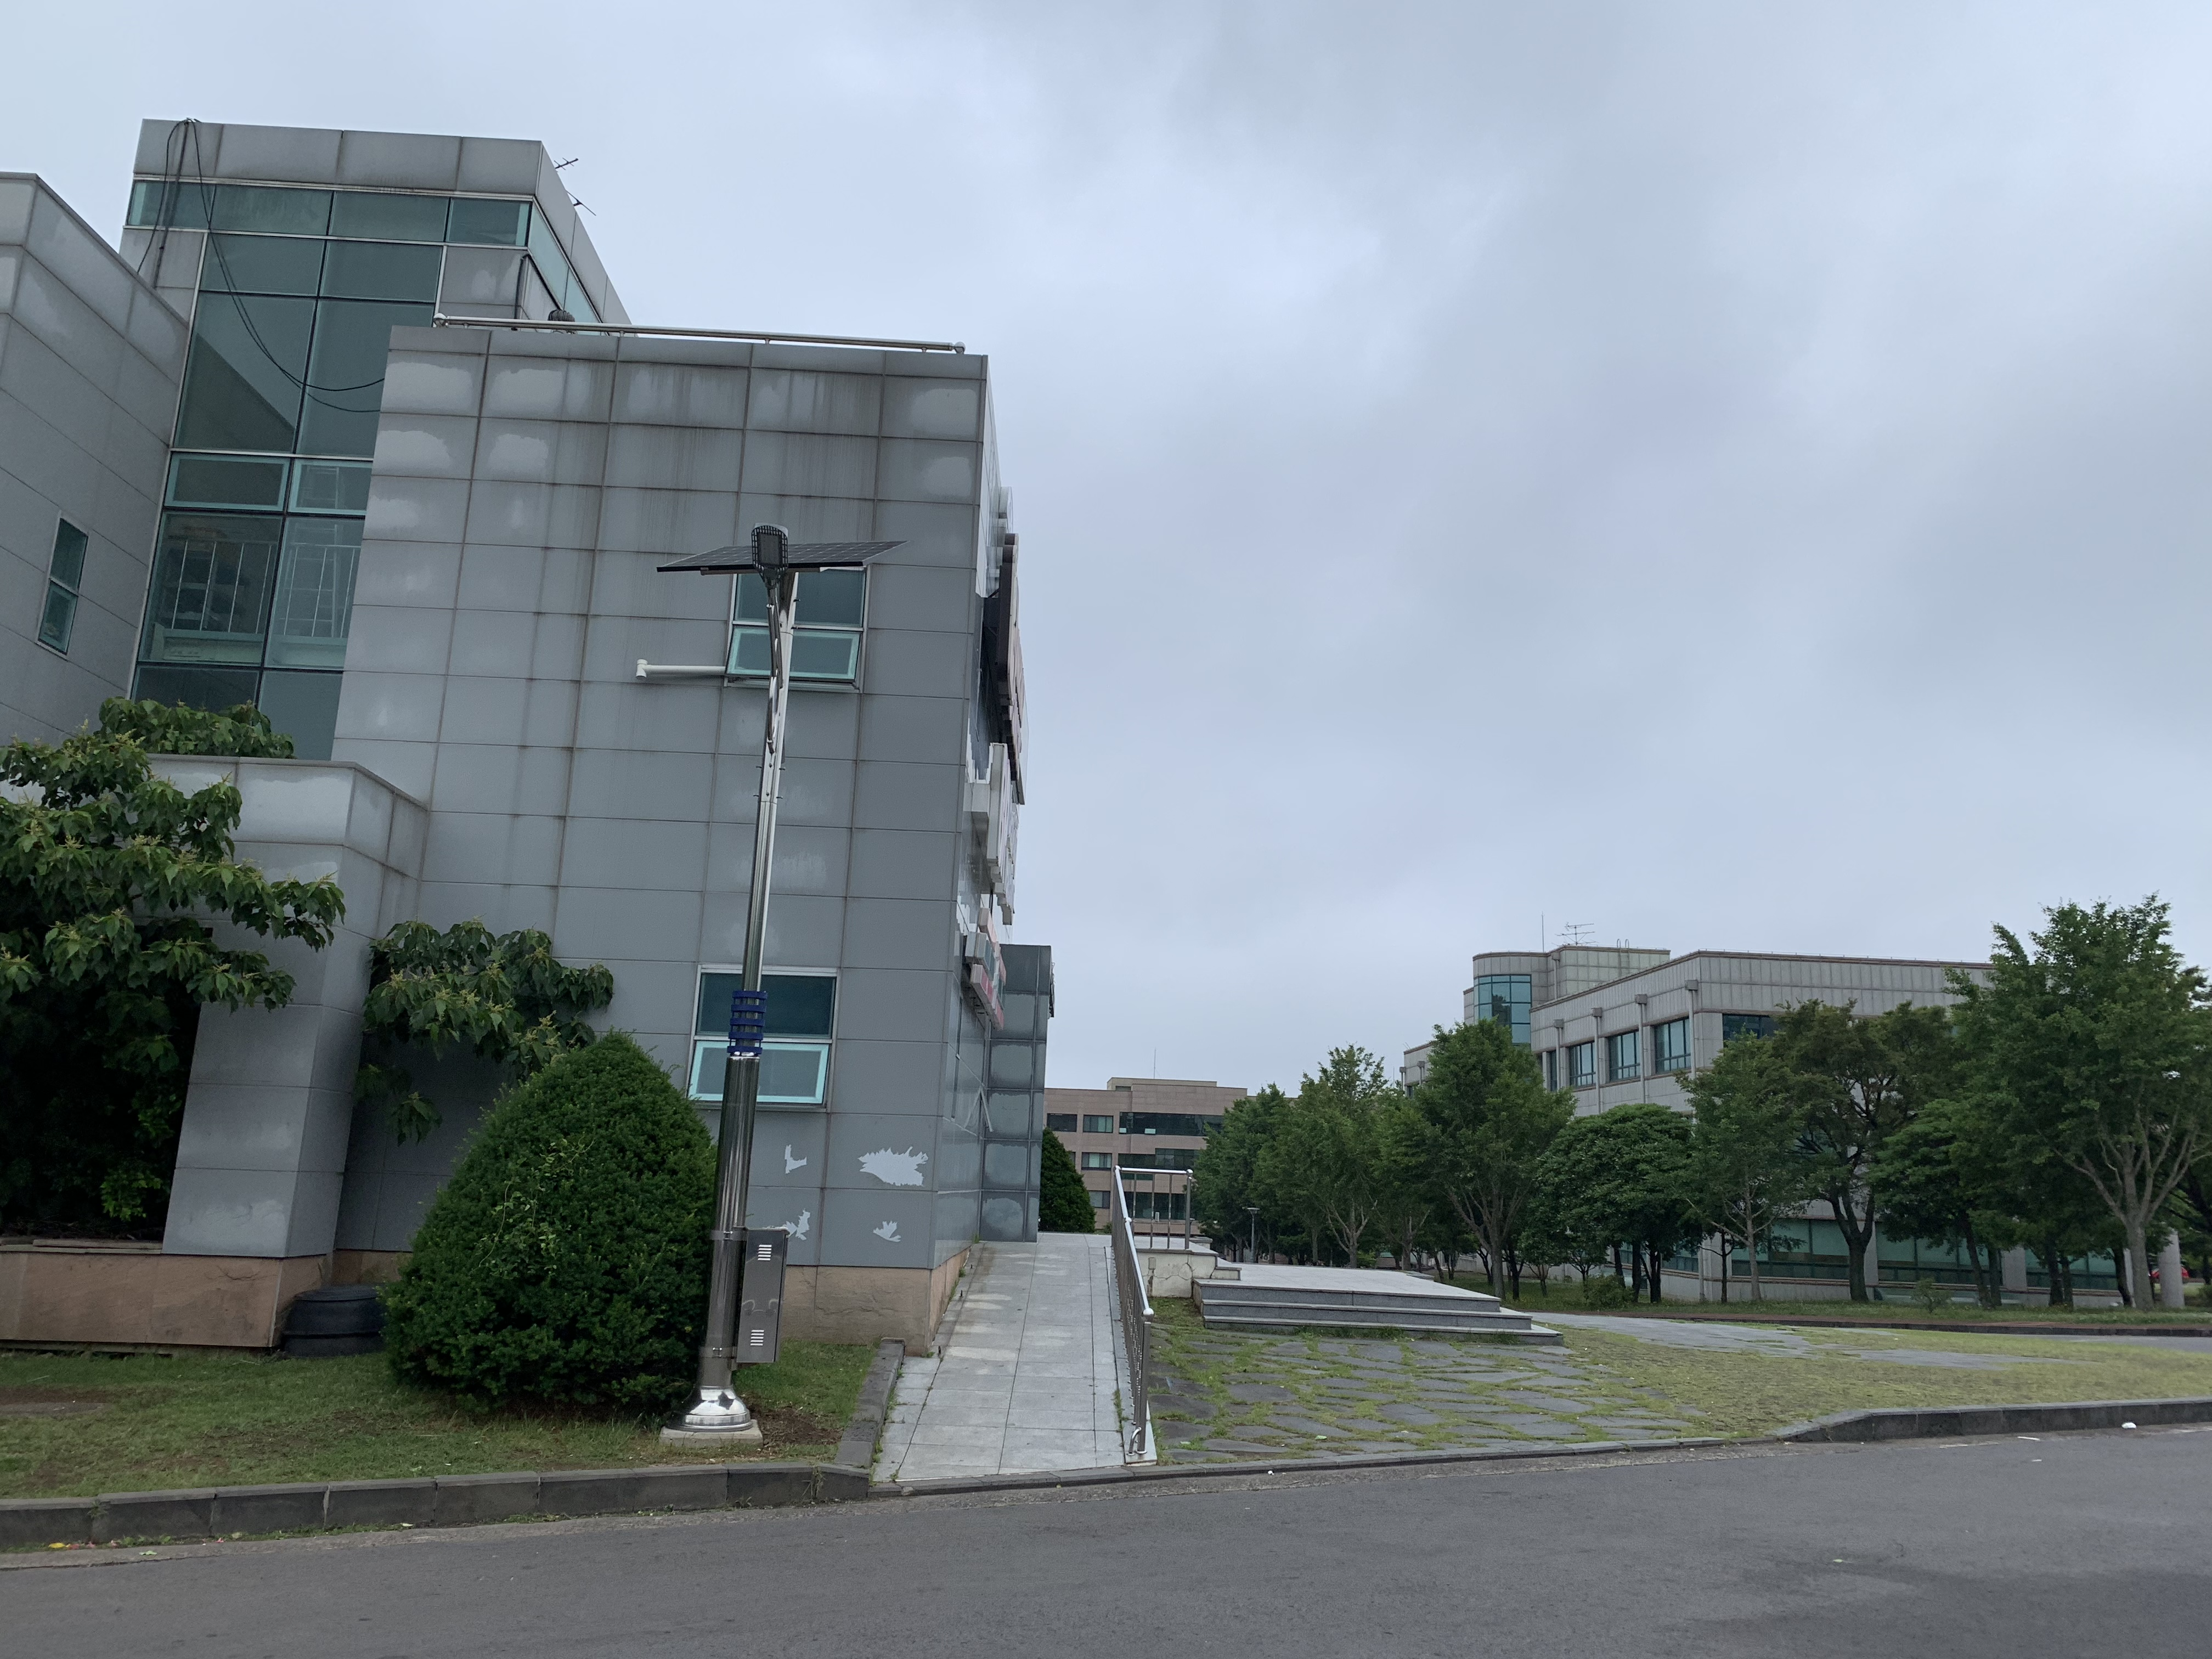Global House: (10, 98, 1059, 1403)
Joint Experimental Labs: (1057, 1082, 1270, 1234)
Second Library: (1461, 890, 2027, 1100), (1674, 1183, 2139, 1323)
